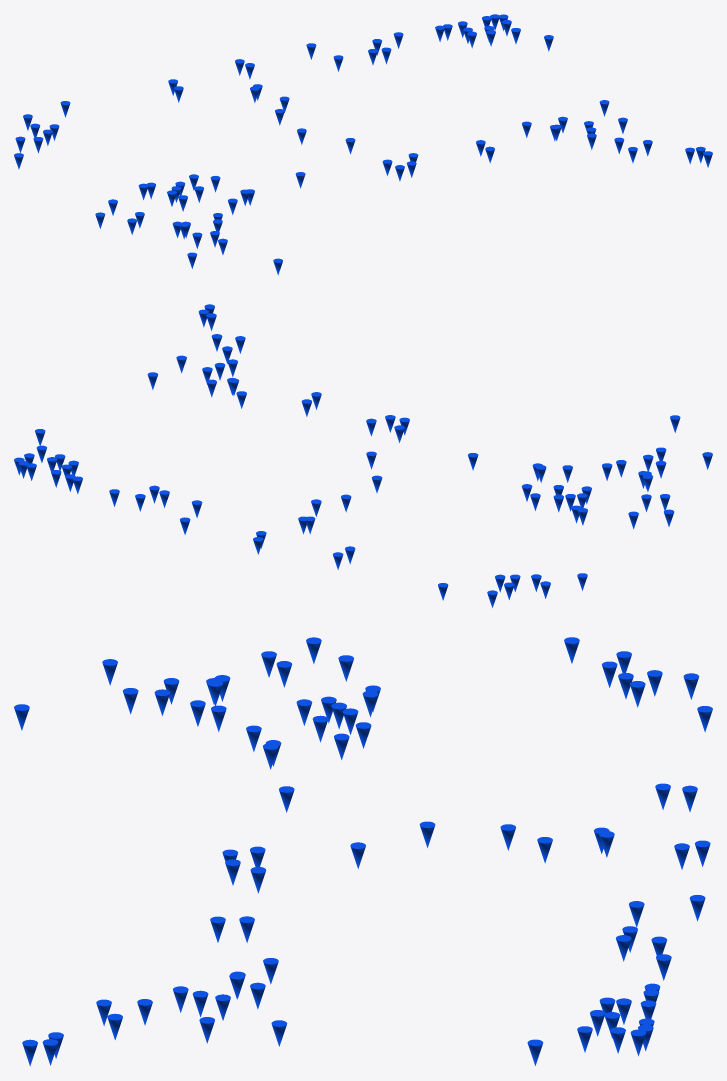
Rendered from Price_Paid_Register.fbx.
3 renders of one model, top to bottom at view 1: azimuth 30°, elevation 25°; view 2: azimuth 150°, elevation 25°; view 3: azimuth 270°, elevation 25°, orthographic. The views are drawn at different scales.
Size of the model in its own units: 1400 by 1010 by 37.75.
